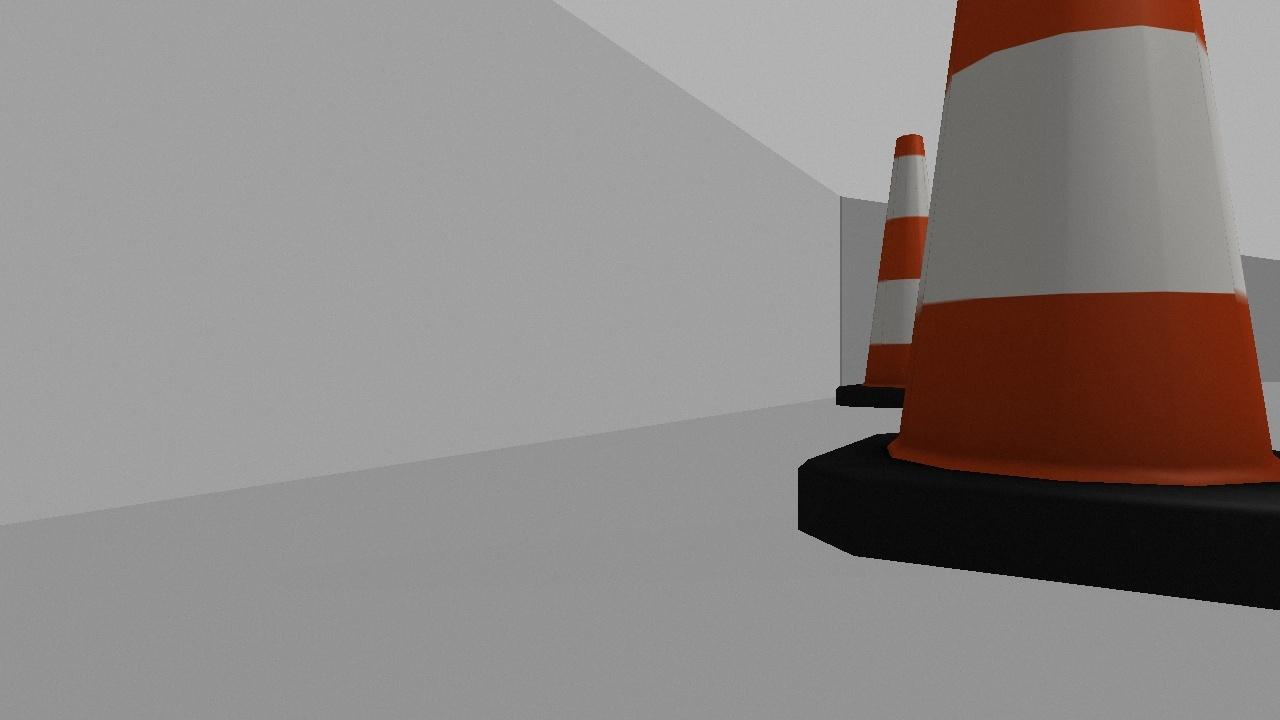cone_barrel: (797, 0, 1279, 605), (834, 132, 970, 406)
